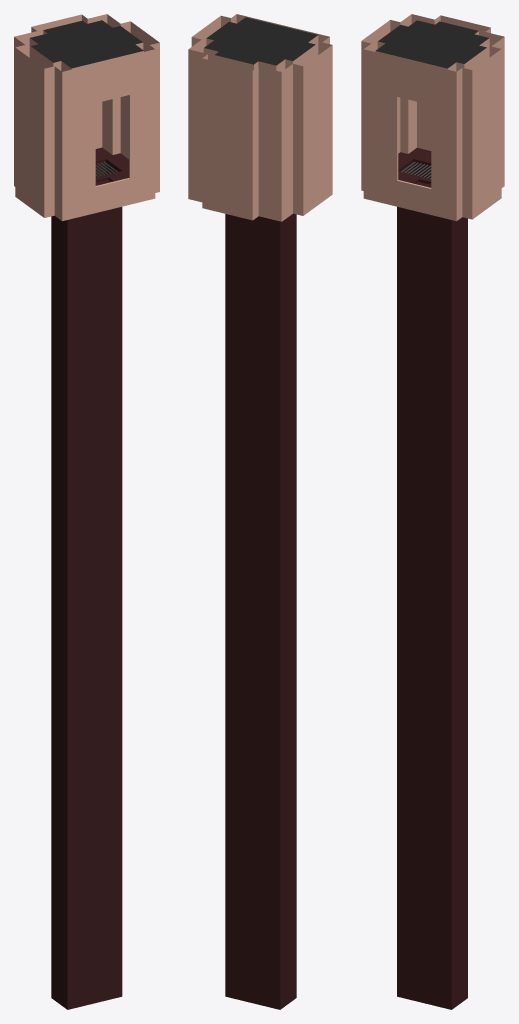
File: Hut.fbx
3 renders of one model, left to right at view 1: azimuth 30°, elevation 25°; view 2: azimuth 150°, elevation 25°; view 3: azimuth 330°, elevation 25°, orthographic.
Visible parts, largest first — view 1: Hut, Hut.Outside; view 2: Hut, Hut.Outside; view 3: Hut, Hut.Outside.
Part boxes in pixels (x1,y1,x2,y2): Hut: (29,20,143,1009); Hut.Outside: (14,14,159,221); Hut: (203,17,318,1009); Hut.Outside: (188,14,332,221); Hut: (375,20,489,1009); Hut.Outside: (361,14,504,221).
Size of the model in its own units: 297 by 2387 by 245.
